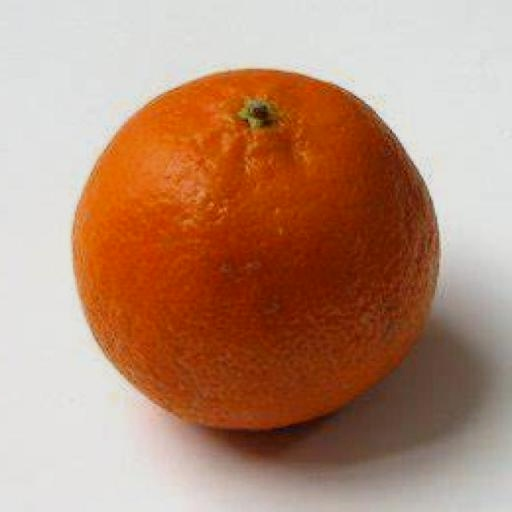fruit: (73, 71, 437, 428)
